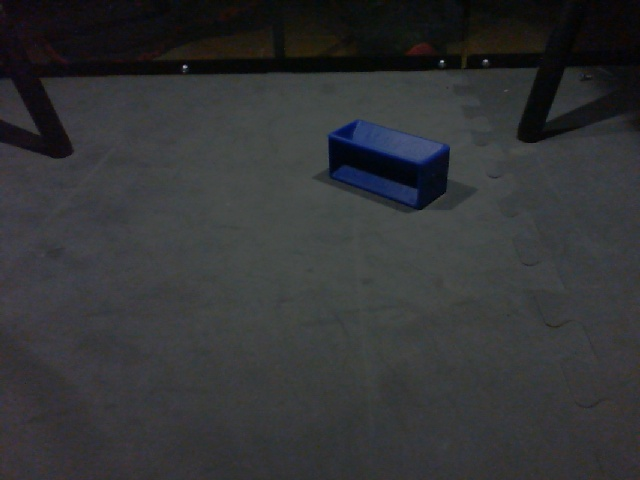BlueSample: (326, 118, 451, 213)
